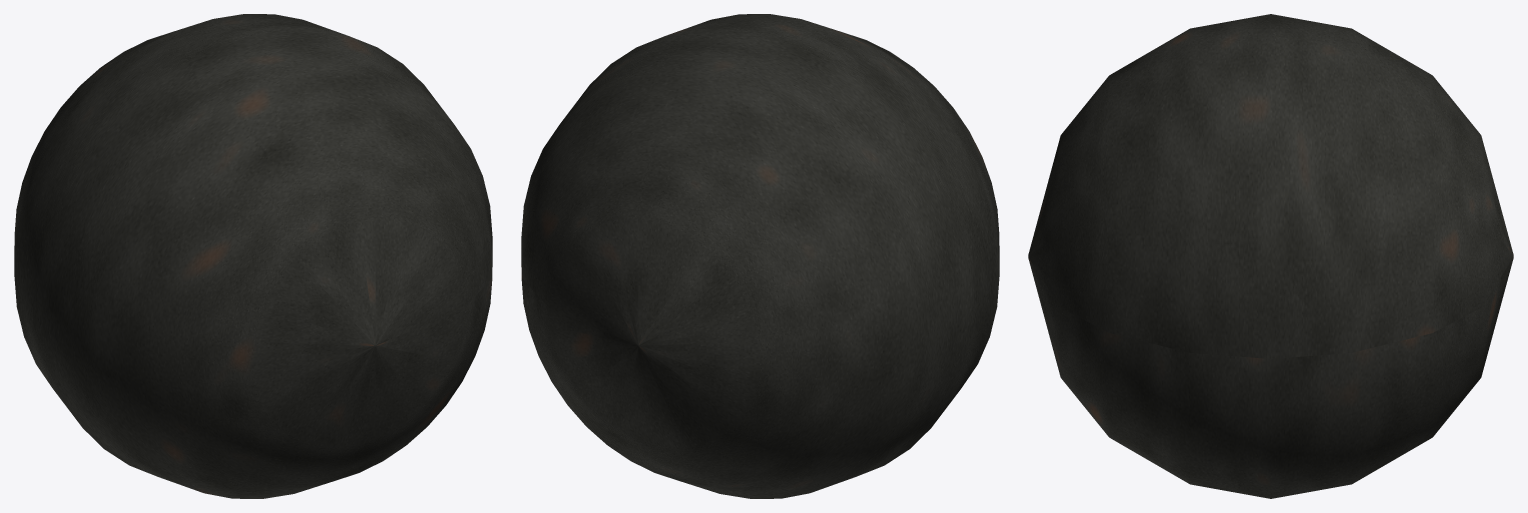
File: ball.obj
3 views of the same model, side by side, from view 1: azimuth 30°, elevation 25°; view 2: azimuth 150°, elevation 25°; view 3: azimuth 270°, elevation 25° (orthographic).
Visible parts, largest first — view 1: Solid_round_iron_ball; view 2: Solid_round_iron_ball; view 3: Solid_round_iron_ball.
Boxes of the visible parts, x1,y1,x2,y2 form: Solid_round_iron_ball: (14, 14, 492, 498); Solid_round_iron_ball: (521, 14, 999, 498); Solid_round_iron_ball: (1028, 14, 1513, 498).
Size of the model in its own units: 0.1875 by 0.1875 by 0.1875.
